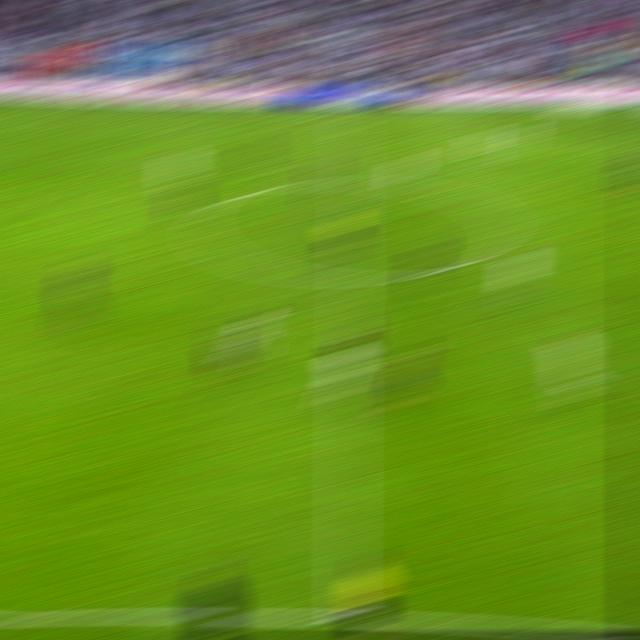halfcircle_bottom: (335, 266, 365, 289)
halfcircle_top: (338, 174, 365, 190)
midline_bottom_intersection: (330, 601, 364, 626)
midline_top_intersection: (339, 107, 364, 118)
